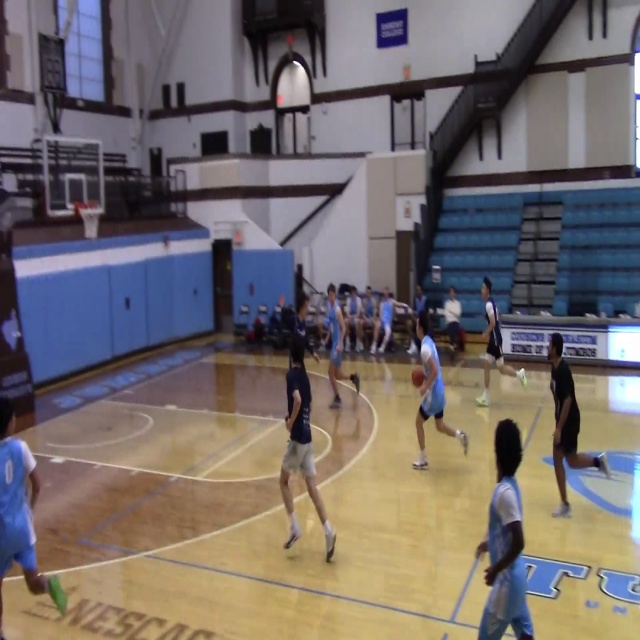Basketball: (411, 370, 426, 387)
